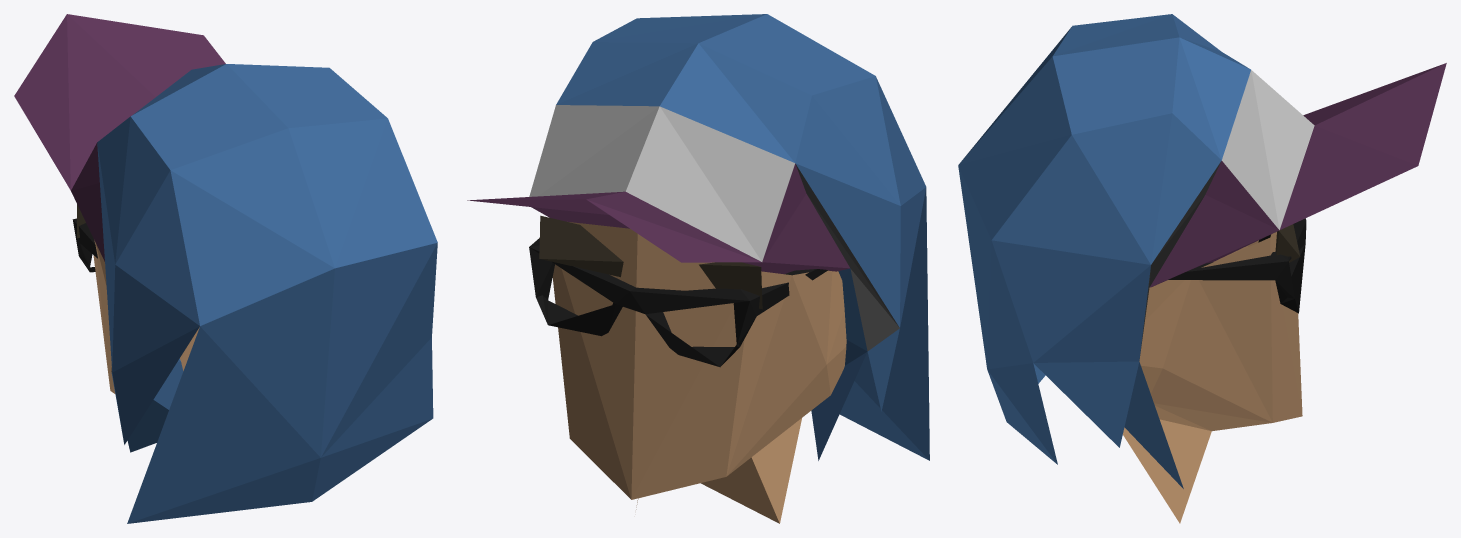
Rendered from Head.obj.
The picture shows the model from 3 angles, left to right: view 1: azimuth 30°, elevation 25°; view 2: azimuth 150°, elevation 25°; view 3: azimuth 270°, elevation 25°; orthographic projection. The views are drawn at different scales.
Size of the model in its own units: 0.2968 by 0.4192 by 0.4058.
1 material, 1 textured.
